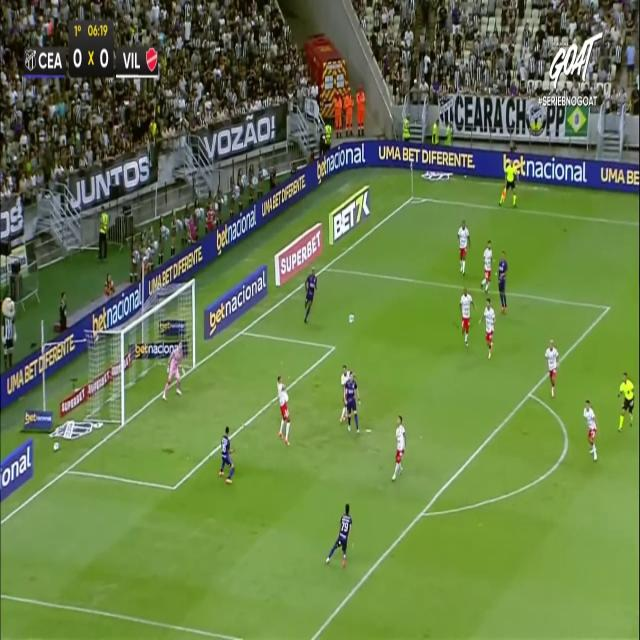ball: (346, 305, 360, 333)
goalkeeper: (162, 339, 188, 400)
player: (325, 502, 352, 568), (478, 297, 496, 359), (344, 371, 361, 434), (277, 375, 291, 446), (218, 426, 235, 484), (459, 286, 475, 346), (391, 414, 405, 481), (583, 399, 598, 461), (545, 338, 559, 396), (303, 266, 317, 323), (457, 219, 469, 276), (481, 239, 493, 293), (497, 250, 507, 313)
referee: (498, 157, 520, 207), (617, 371, 635, 431)
